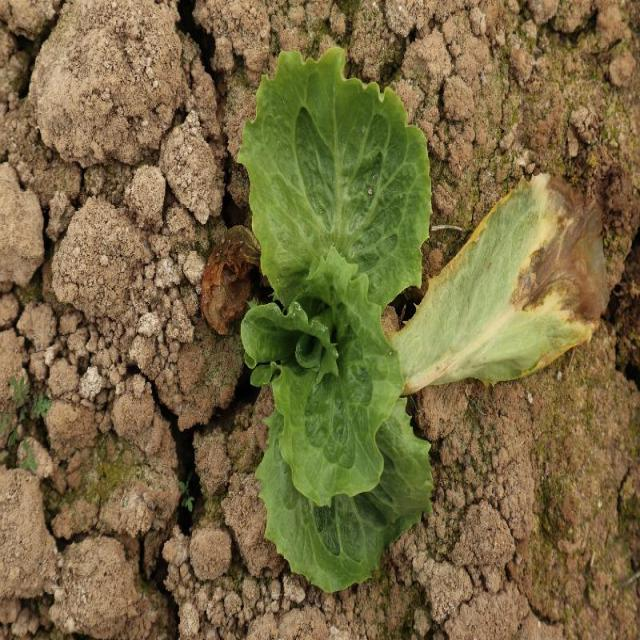crop: (236, 47, 437, 588)
